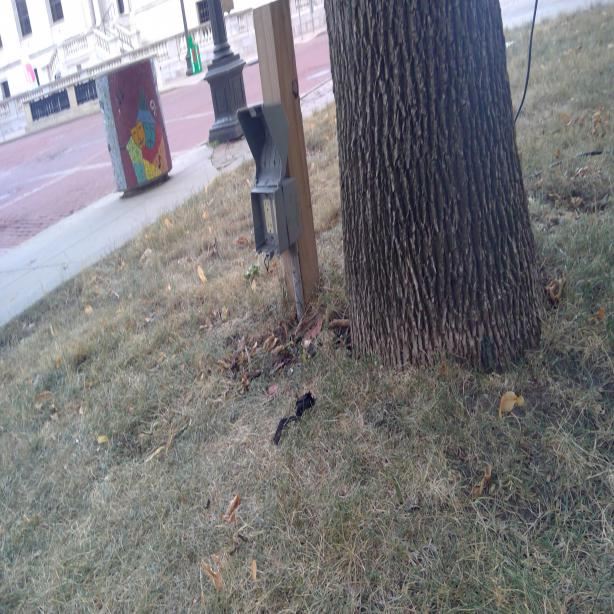typeb: (262, 196, 271, 216), (266, 219, 274, 235)
